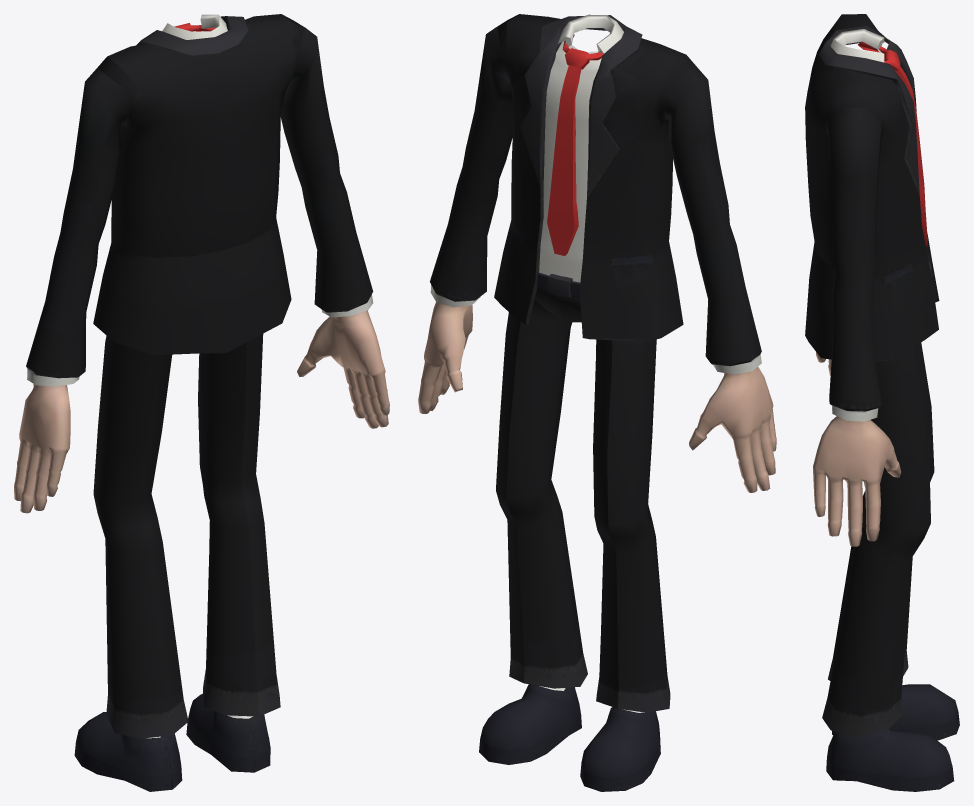
Rendered from business-dude.glb.
3 views of the same model, side by side, from view 1: azimuth 30°, elevation 25°; view 2: azimuth 150°, elevation 25°; view 3: azimuth 270°, elevation 25° (orthographic). The views are drawn at different scales.
Visible parts, largest first — view 1: costume; view 2: costume; view 3: costume.
Part boxes in pixels (x1,y1,x2,y2): costume: [14, 14, 389, 791]; costume: [418, 14, 776, 791]; costume: [805, 14, 959, 791].
Bounding box in the file's own units: 0.7303 × 1.46 × 0.2869.
3 materials, 3 textured.
